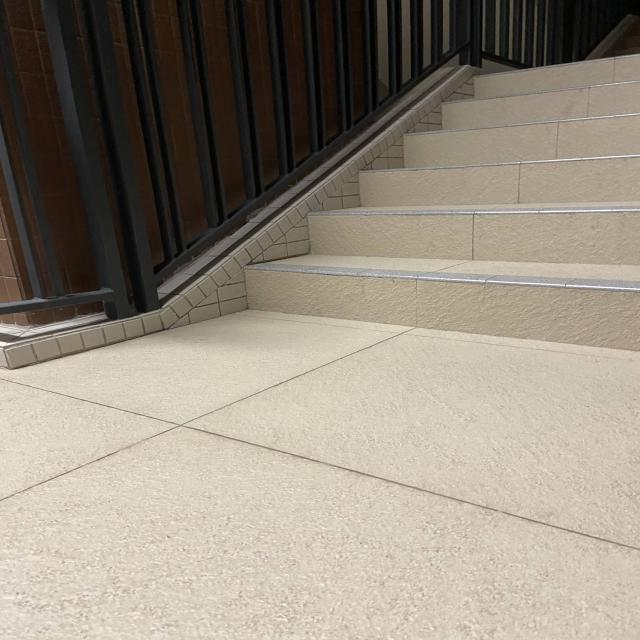Stairs: (233, 49, 640, 354)
